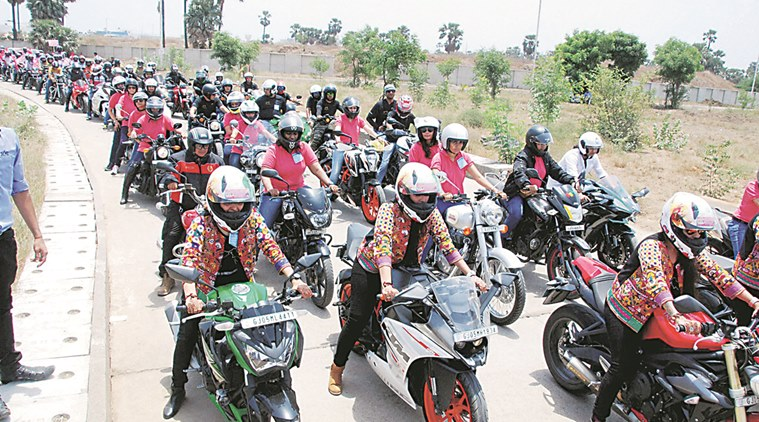helmet: (202, 164, 258, 223), (388, 162, 444, 221), (662, 195, 718, 254), (277, 110, 303, 140), (338, 92, 362, 117), (143, 93, 165, 120), (443, 120, 465, 147), (529, 126, 551, 153), (578, 127, 600, 154), (417, 108, 439, 135), (236, 102, 260, 125), (398, 95, 415, 109), (200, 83, 218, 96)
